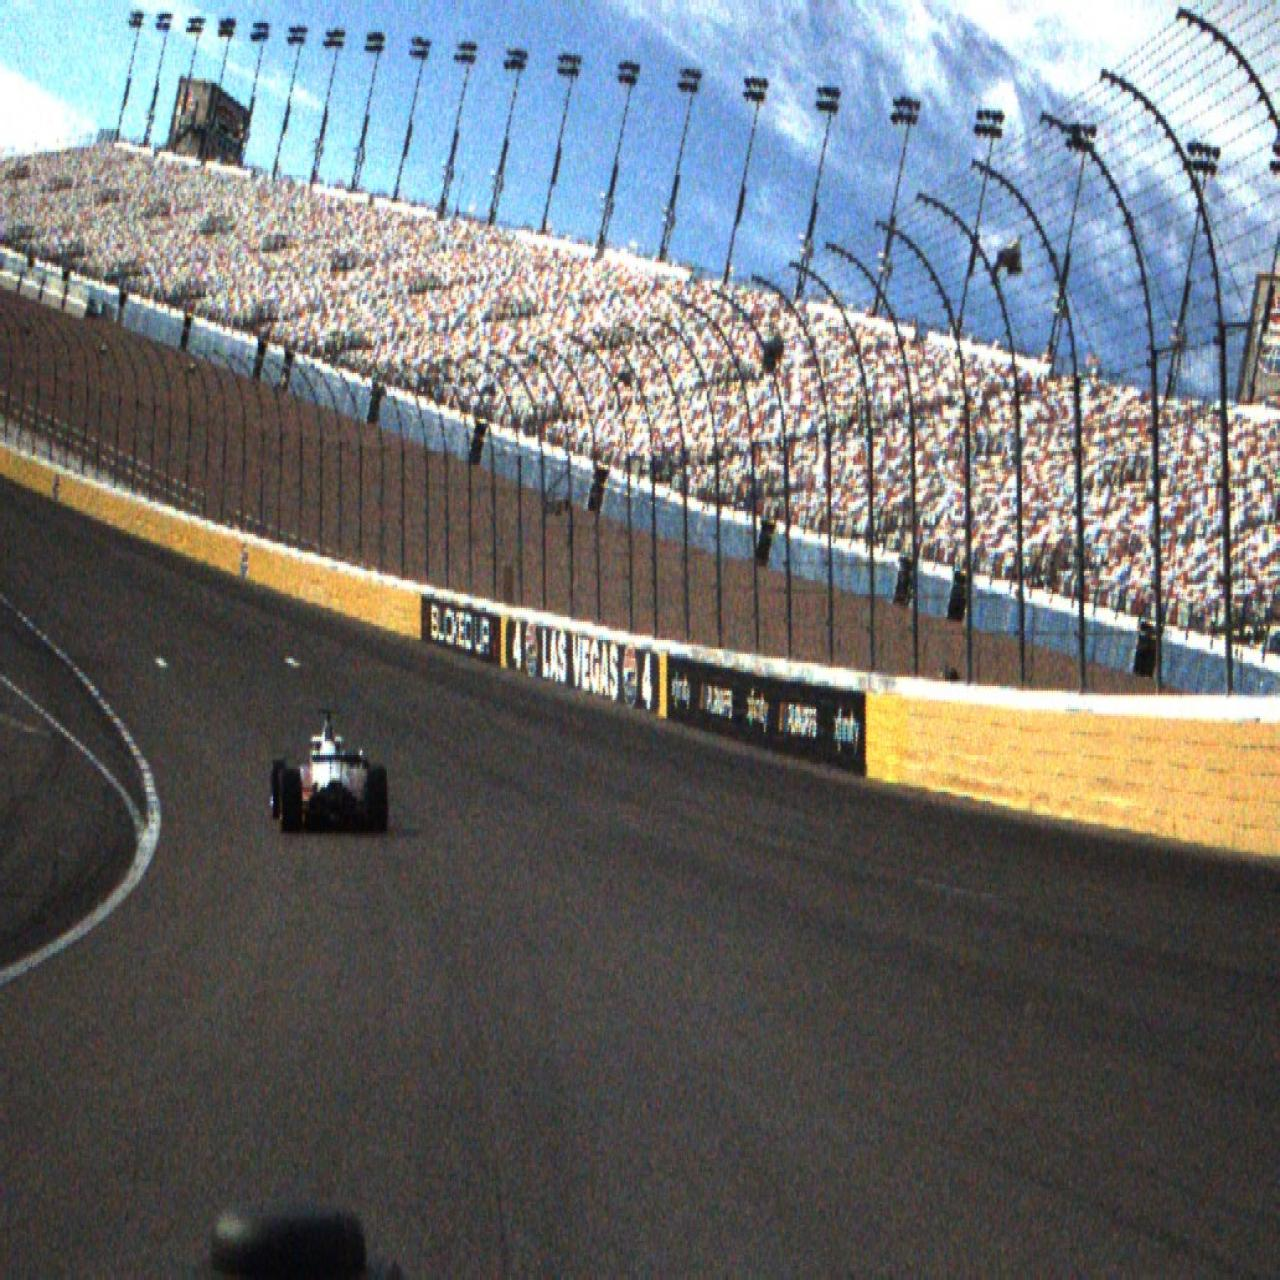AV: (268, 707, 389, 837)
Wheel: (279, 769, 302, 835), (368, 765, 389, 836), (271, 758, 286, 823)
